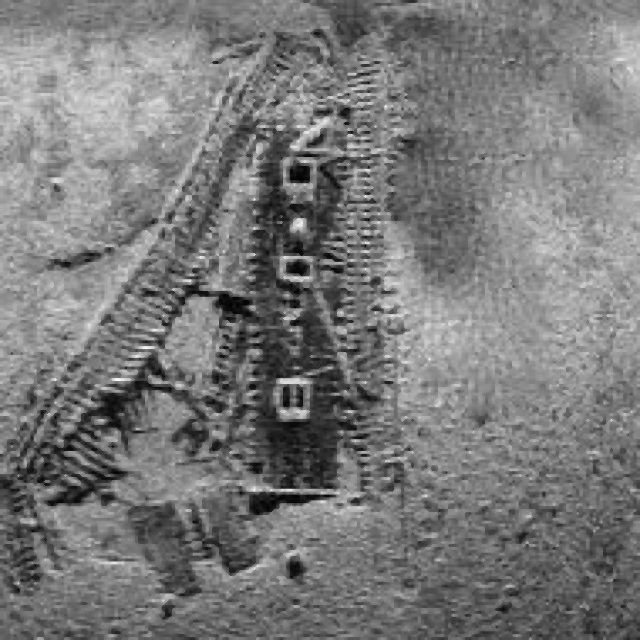Ship: (201, 36, 414, 569)
